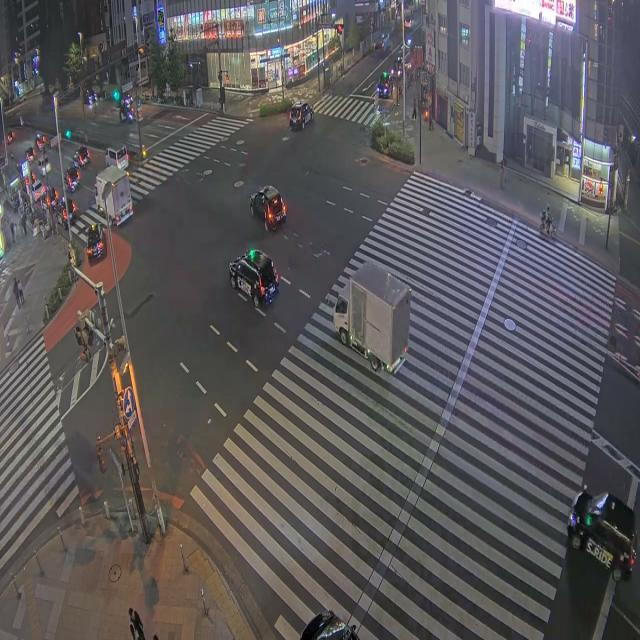car: (568, 488, 635, 581), (229, 249, 278, 307), (301, 611, 358, 639), (250, 186, 286, 230), (86, 224, 106, 262), (289, 103, 313, 129), (57, 198, 76, 226), (41, 186, 58, 212), (377, 72, 392, 98), (64, 168, 80, 192), (75, 146, 89, 167), (38, 156, 51, 175), (392, 55, 403, 77), (47, 186, 59, 206), (33, 181, 45, 201), (83, 88, 97, 105), (35, 134, 49, 150), (26, 146, 36, 162), (7, 131, 16, 144)
motorcycle: (539, 210, 555, 239), (540, 221, 555, 239), (73, 156, 81, 169)
truck: (334, 263, 410, 372), (95, 166, 132, 225)
van: (105, 146, 128, 170)
